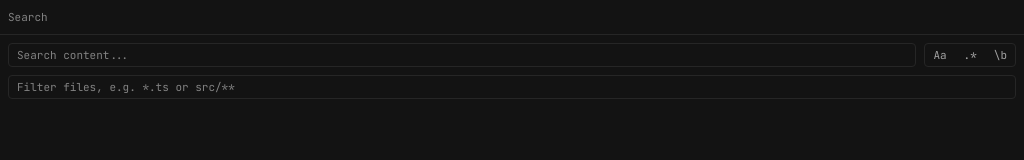
SearchPanel › Error handling › shows generic error message for other errors
Type "test" into the field with placeholder "Search content..." at (462, 55), box [8,43,916,67]
Wait 200 ms
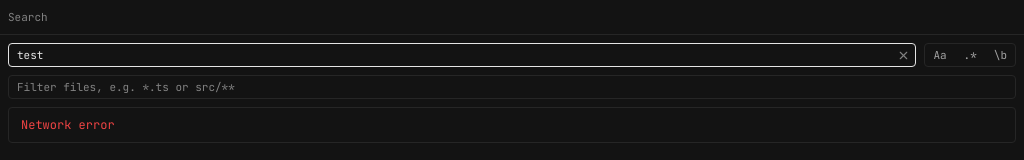
Check: the text "Network error" is shown, box [8,107,1016,143]
